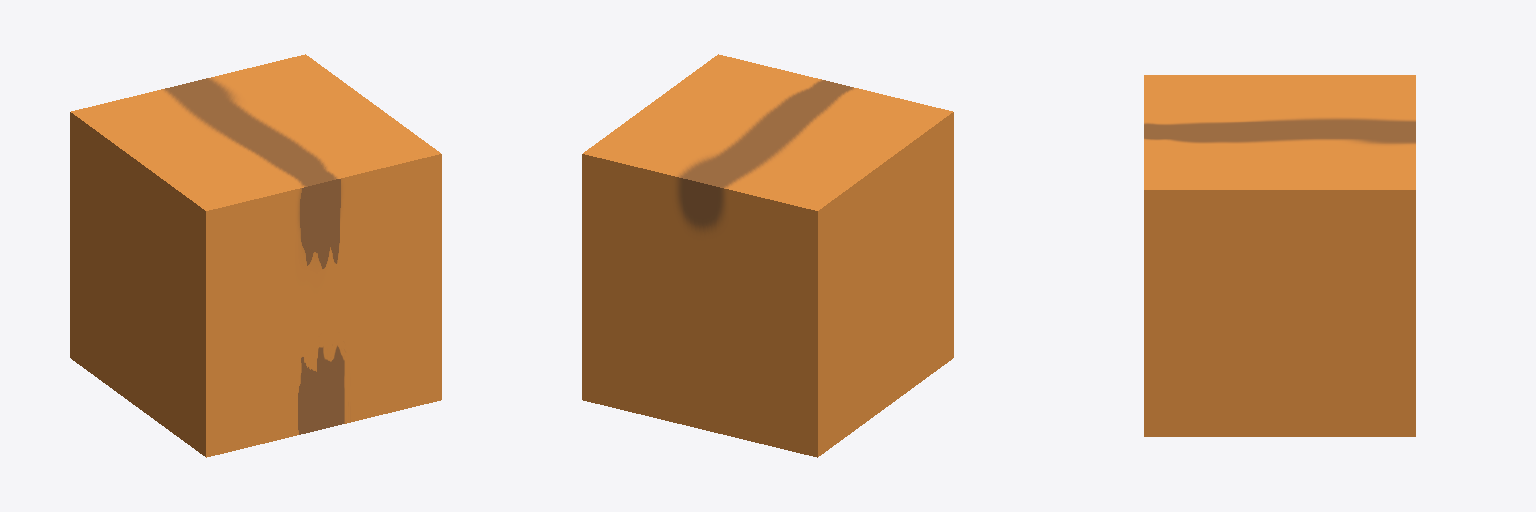
The picture shows the model from 3 angles: view 1: azimuth 30°, elevation 25°; view 2: azimuth 150°, elevation 25°; view 3: azimuth 270°, elevation 25°; orthographic projection.
Visible parts, largest first — view 1: Cube; view 2: Cube; view 3: Cube.
Boxes of the visible parts, x1,y1,x2,y2 form: Cube: [70, 54, 441, 457]; Cube: [582, 54, 953, 457]; Cube: [1144, 75, 1415, 436].
Size of the model in its own units: 1 by 1 by 1.
1 materials, 1 textured.